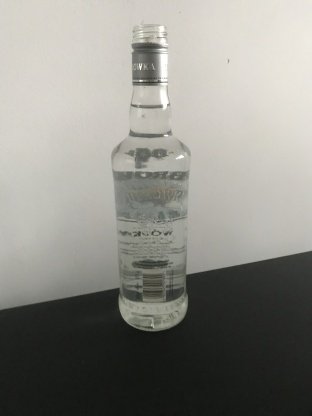nakretka: (129, 22, 170, 87)
